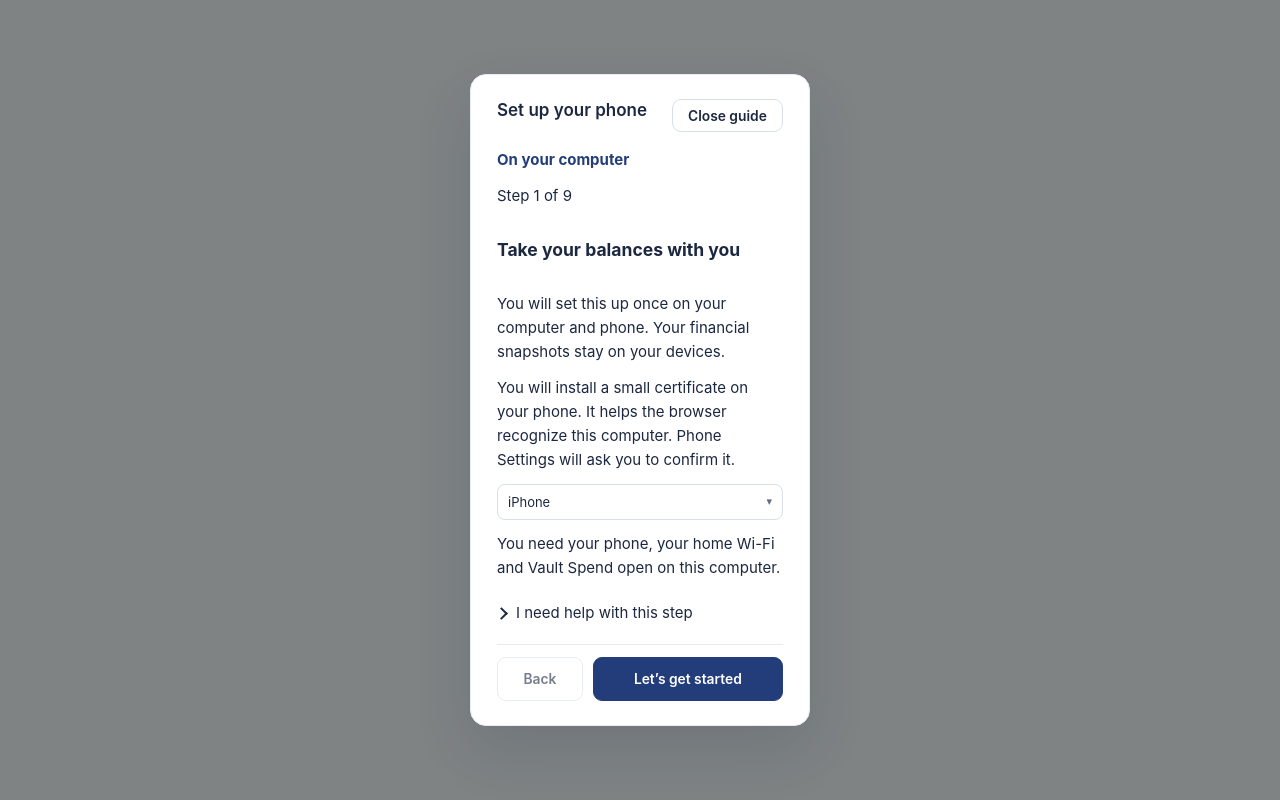
Scenario: native failures keep the guide at setup and never manufacture a successful QR or pairing
The image size is (1280, 800).
Click the button "Let’s get started". click: [688, 679]
box: x1=593 y1=657 x2=783 y2=701
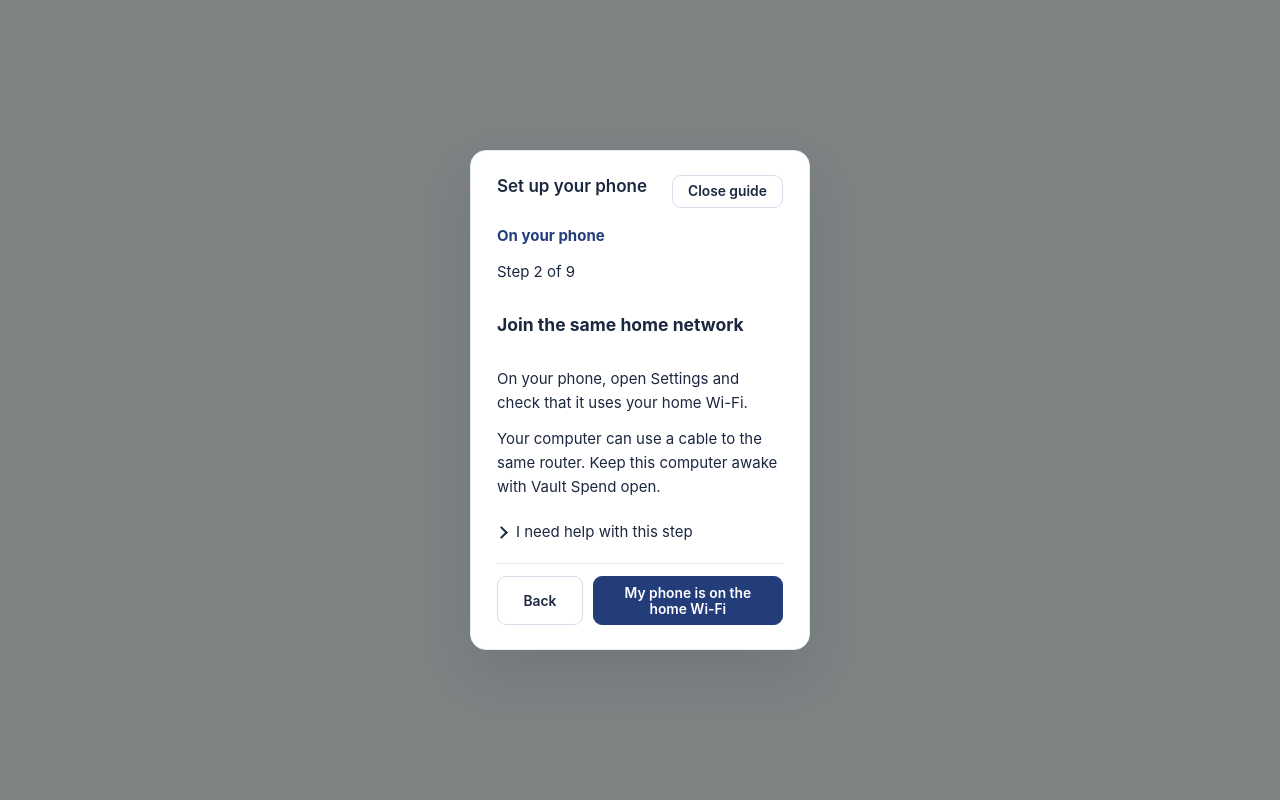
Click the button "My phone is on the home Wi-Fi". click: [688, 601]
box: x1=593 y1=576 x2=783 y2=626
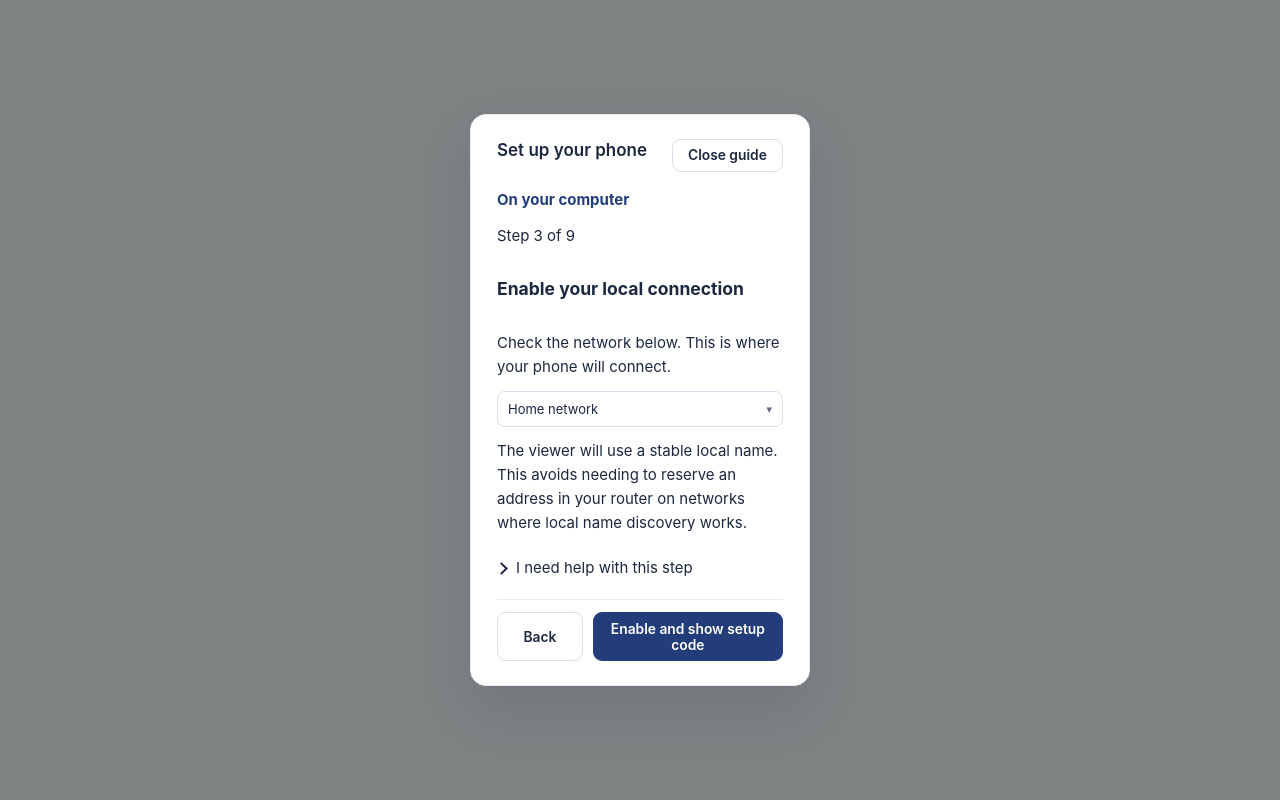
Click the button "Enable and show setup code". click: [688, 637]
box: x1=593 y1=612 x2=783 y2=662
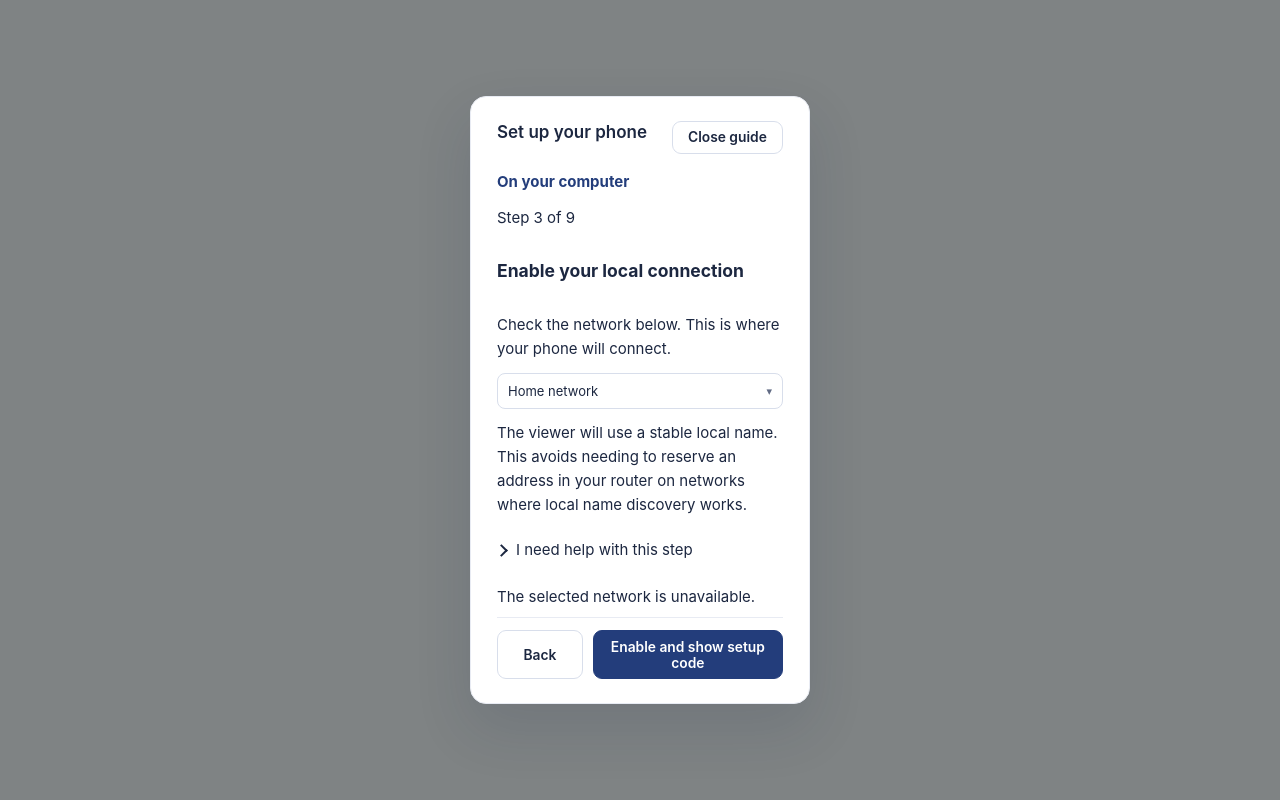
Expected: the message "The selected network is unavailable." is shown, x1=497 y1=585 x2=783 y2=609
